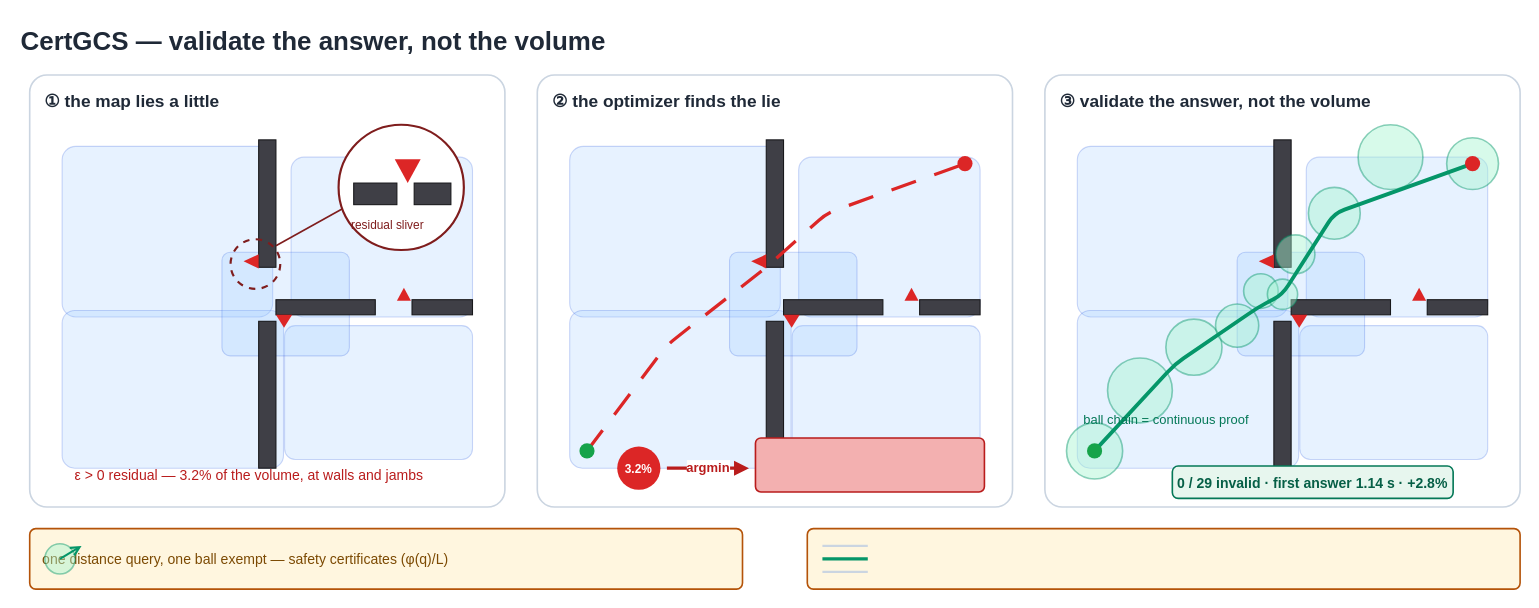
Some shapes in this 1539 by 608 pixel diagram are drawn without their labels. Here are the shapes that lost their labels. From the top down, the centre of each, then its label:
At [869,464]: "62% of task answers invalid".
At [1163,558]: "check only the roads the route uses — lazy collision checking".
